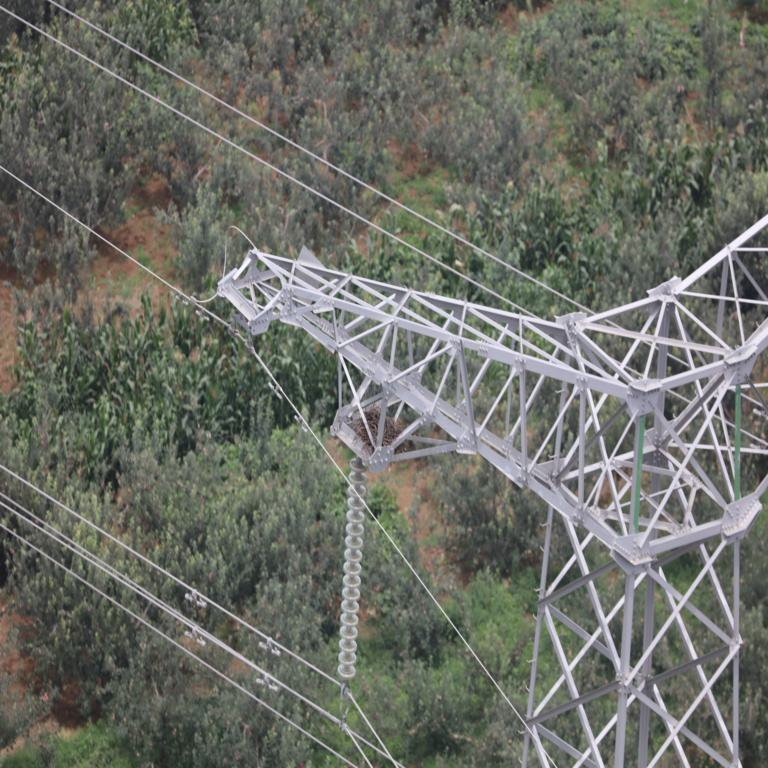nest: (355, 407, 401, 454)
